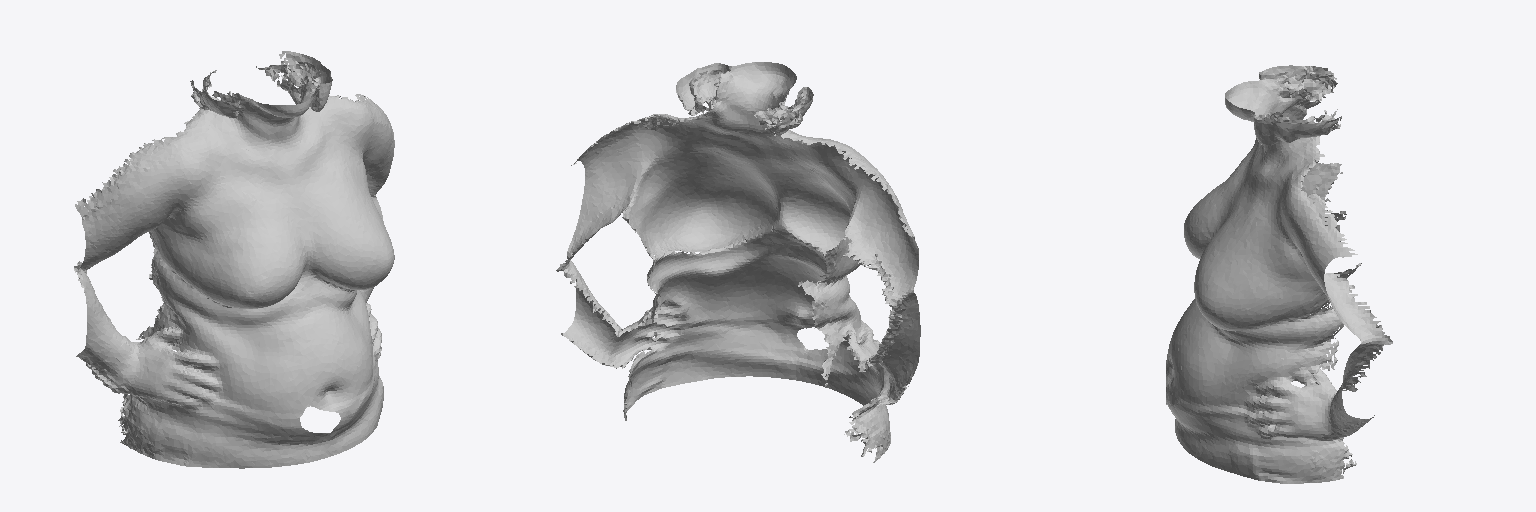
The model's file is clean_target.obj.
The picture shows the model from 3 angles: view 1: azimuth 30°, elevation 25°; view 2: azimuth 150°, elevation 25°; view 3: azimuth 270°, elevation 25°; orthographic projection.
Bounding box in the file's own units: 0.5817 × 0.5816 × 0.357.